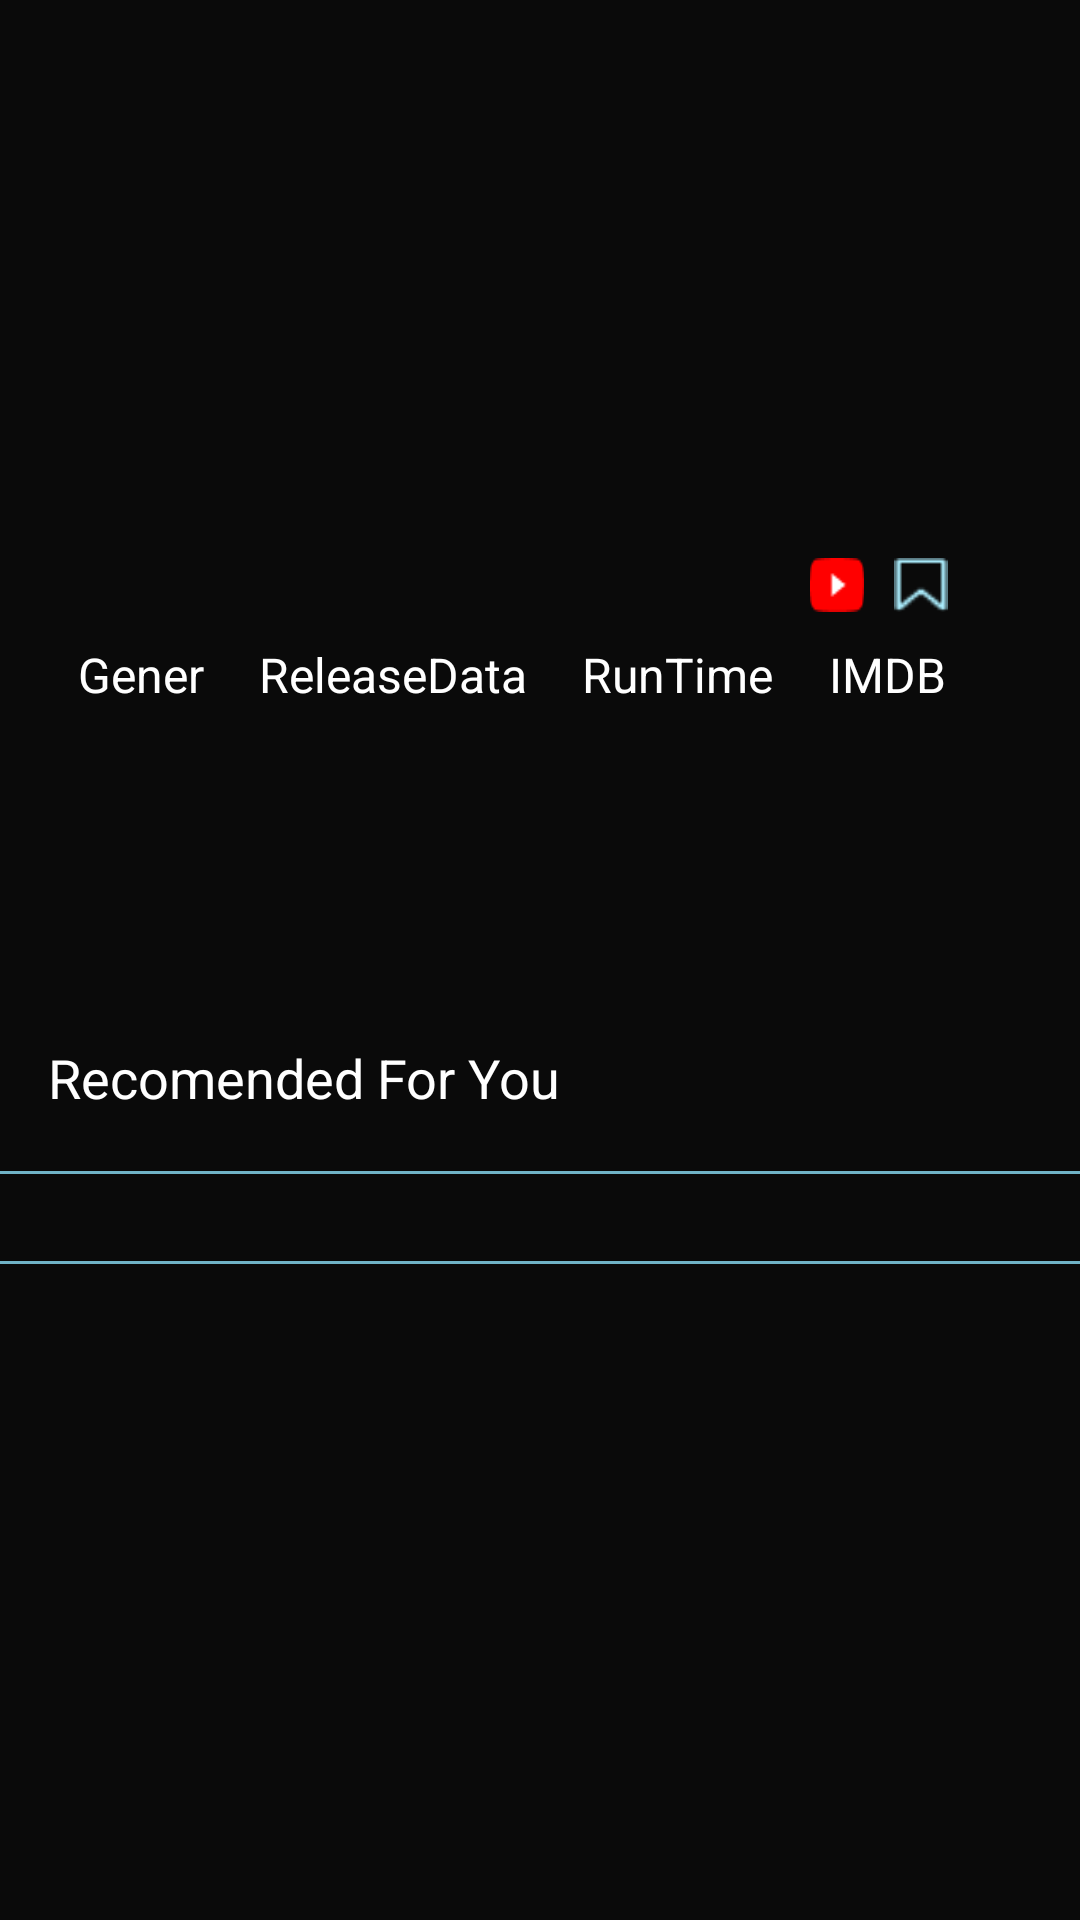

Icons on this 1080 × 1920 Android screen, each with the point to tap as (x=x, y=y):
saved: (x=921, y=584)
